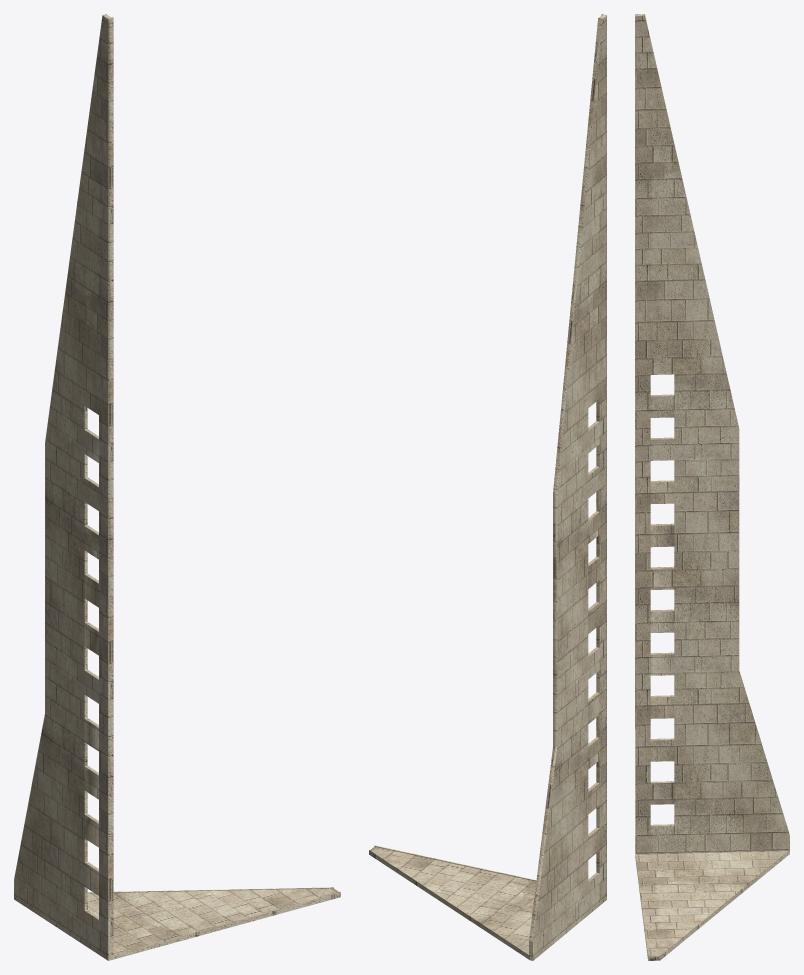
File: walls_147.fbx
3 renders of one model, left to right at view 1: azimuth 30°, elevation 25°; view 2: azimuth 150°, elevation 25°; view 3: azimuth 270°, elevation 25°, orthographic. The views are drawn at different scales.
Visible parts, largest first — view 1: walls_147; view 2: walls_147; view 3: walls_147.
Part boxes in pixels (x1=…): walls_147: x1=14, y1=14, x2=340, y2=960; walls_147: x1=369, y1=14, x2=606, y2=960; walls_147: x1=635, y1=14, x2=789, y2=960.
Bounding box in the file's own units: 376 × 1368 × 228.
